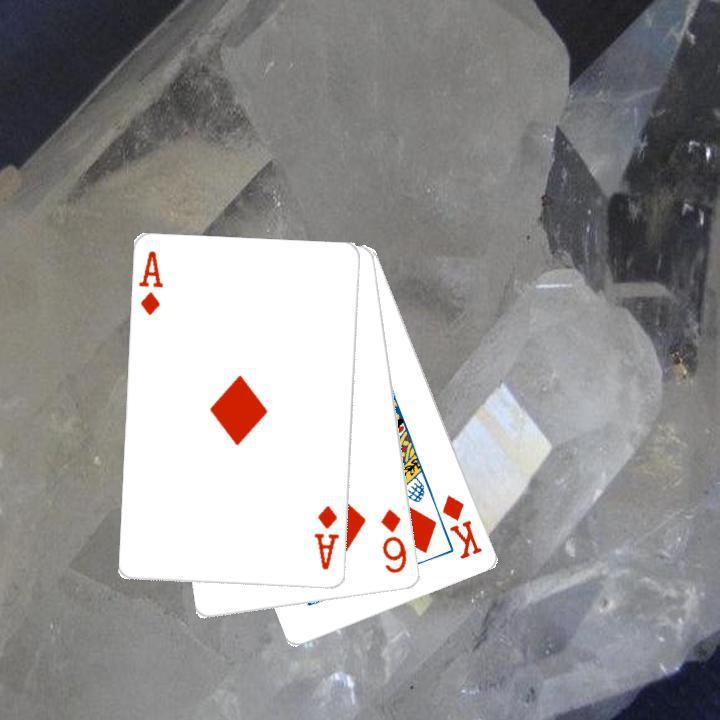6: (377, 505, 410, 576)
A: (310, 502, 341, 572), (136, 247, 166, 317)
K: (438, 490, 485, 562)
